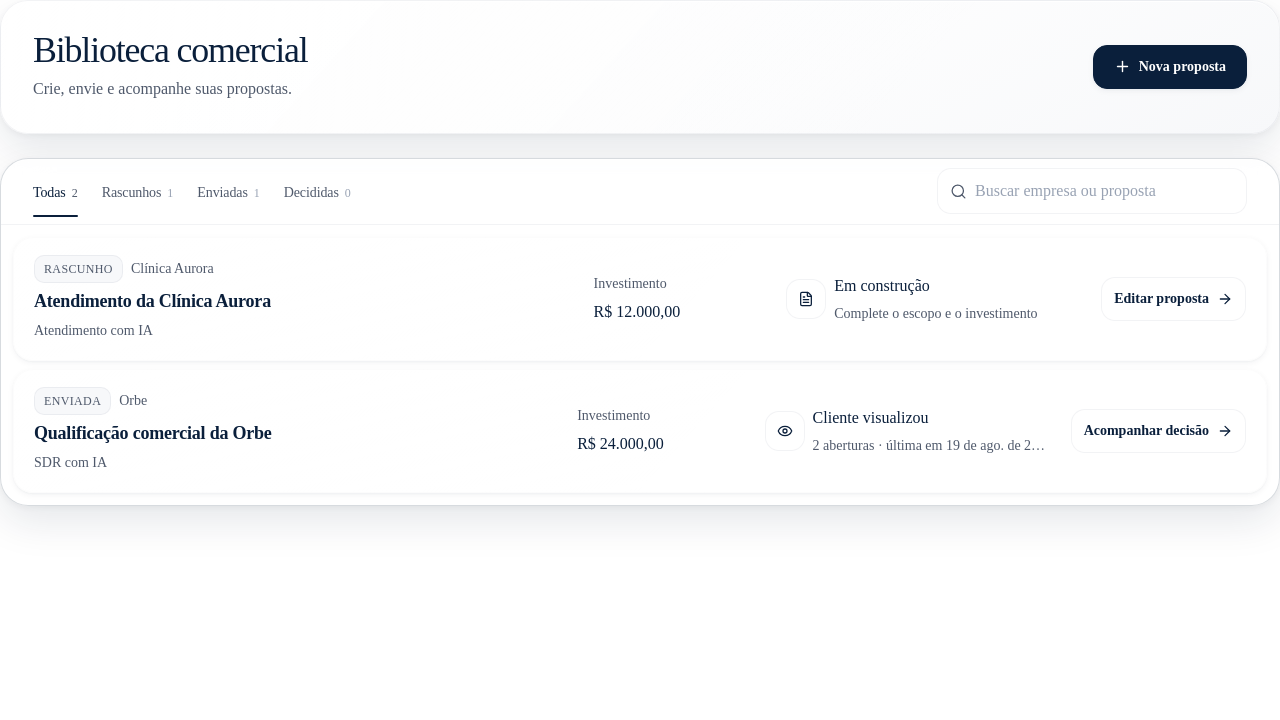
Scenario: PainelPropostas › busca por empresa, proposta ou projeto e permite limpar o filtro
This screenshot has width=1280, height=720.
Type "Orbe" into the search field named "Buscar propostas" at [1102, 191], box [967,170,1238,212]
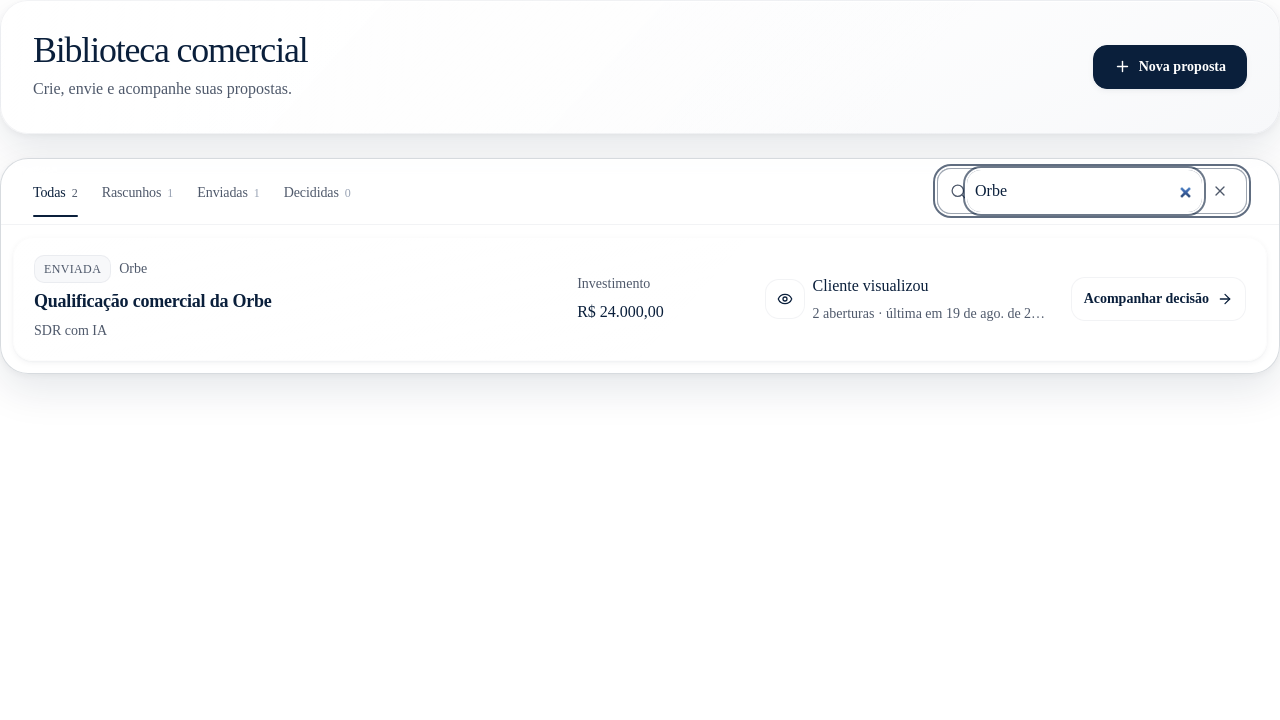
Check: the text "Orbe" is shown, box [119,257,147,280]
Check: the link "Clínica Aurora" is gone
Click the button named "Limpar busca" at [1220, 191], box [1202,173,1238,209]
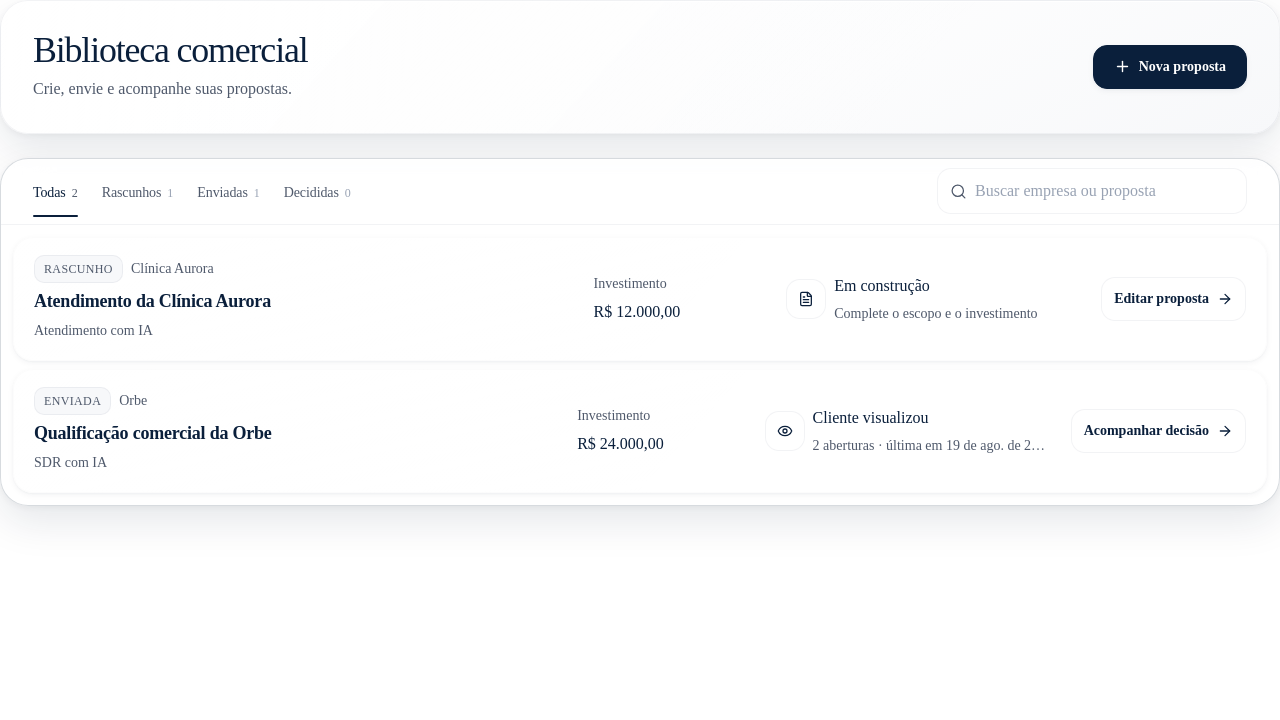
Check: the text "Clínica Aurora" is shown, box [131,257,214,280]
